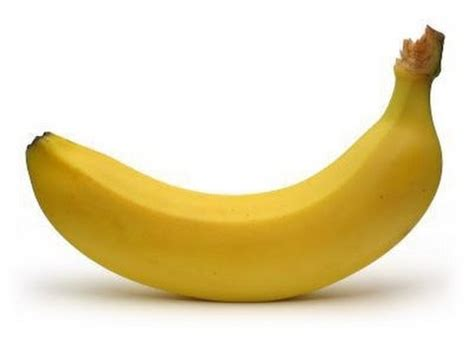banana: (23, 97, 448, 304)
